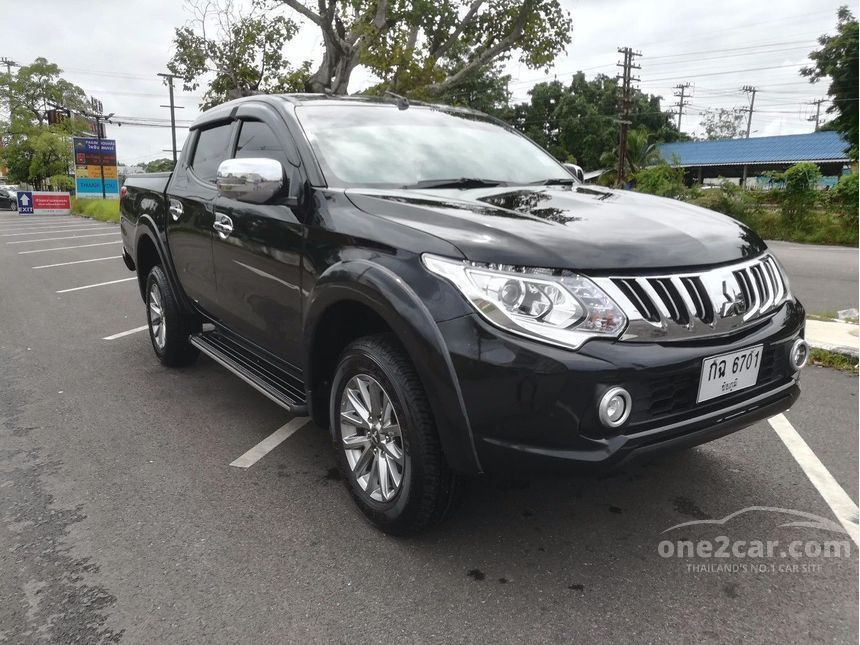pickup: (111, 89, 811, 536)
